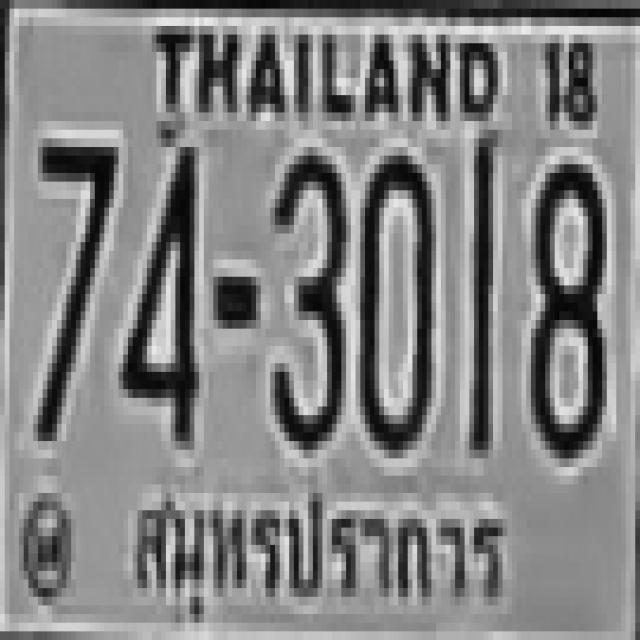0: (356, 147, 432, 450)
1: (469, 138, 493, 450)
3: (270, 147, 342, 441)
4: (119, 138, 194, 432)
7: (33, 130, 114, 432)
8: (526, 156, 602, 450)
SamutPrakan: (125, 476, 512, 611)
